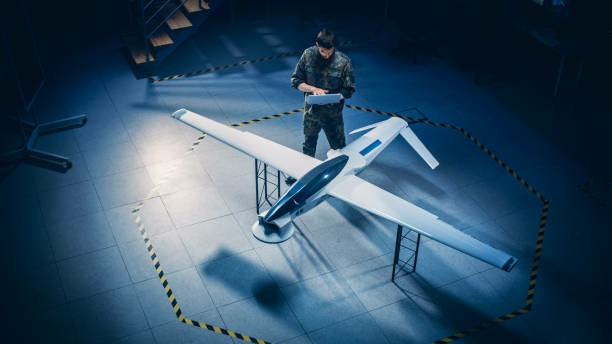maybay_khongnguoilai: (176, 105, 511, 270)
